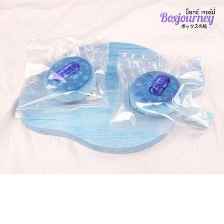snack: (104, 46, 220, 138), (7, 24, 115, 122)
